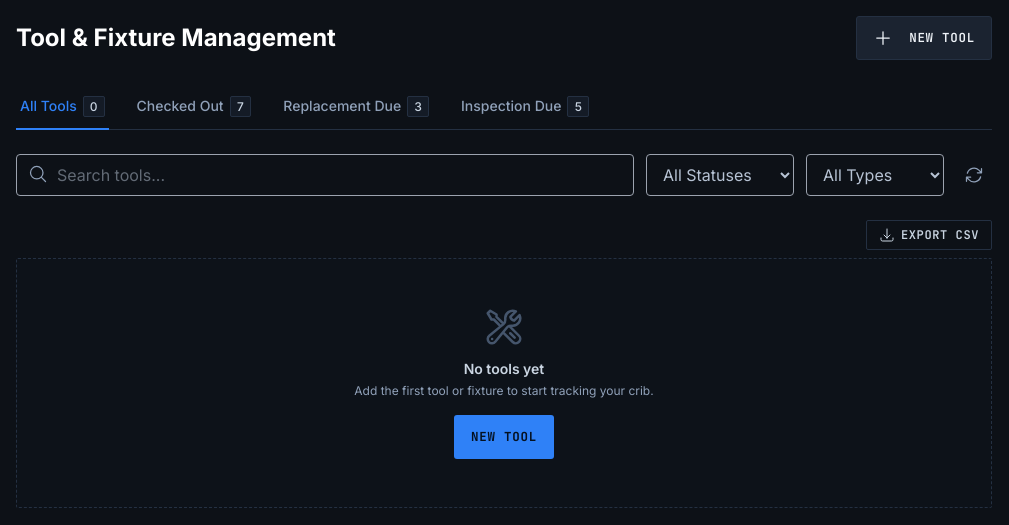
Test case: distinguishes a first tool from a search miss and an empty attention tab
The width and height of the screenshot is (1009, 525).
Expected: the text "No tools yet" is shown, [464,359,544,379]
Expected: the text "Add the first tool or fixture to start tracking your crib." is shown, [354,383,654,399]
Type "missing drill" into the field with placeholder "Search tools...". click: point(325, 175)
box: [16,154,634,196]
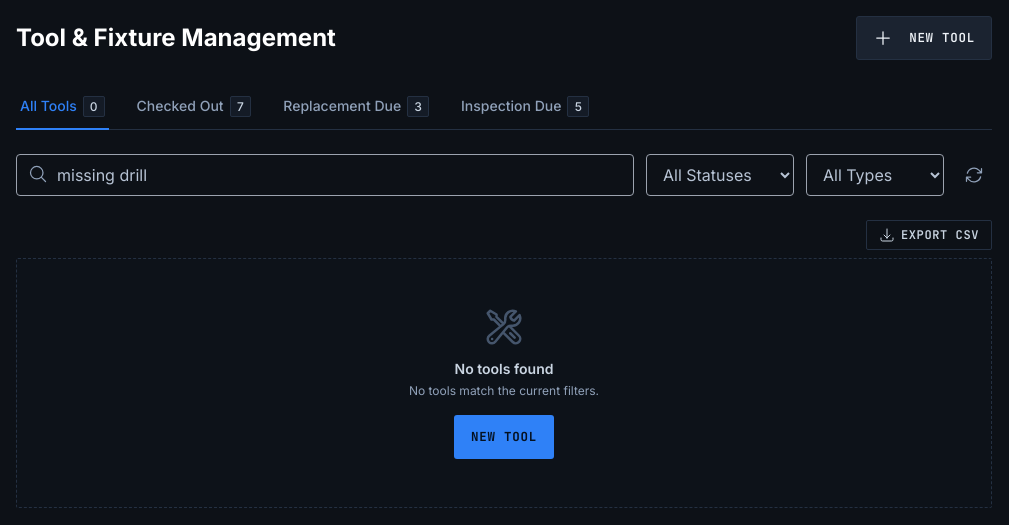
Now the text "No tools found" is shown, box [454,359,553,379]
Now the text "No tools match the current filters." is shown, box [409,383,599,399]
Clear the field with placeholder "Search tools...". click: point(325, 175)
box: [16,154,634,196]
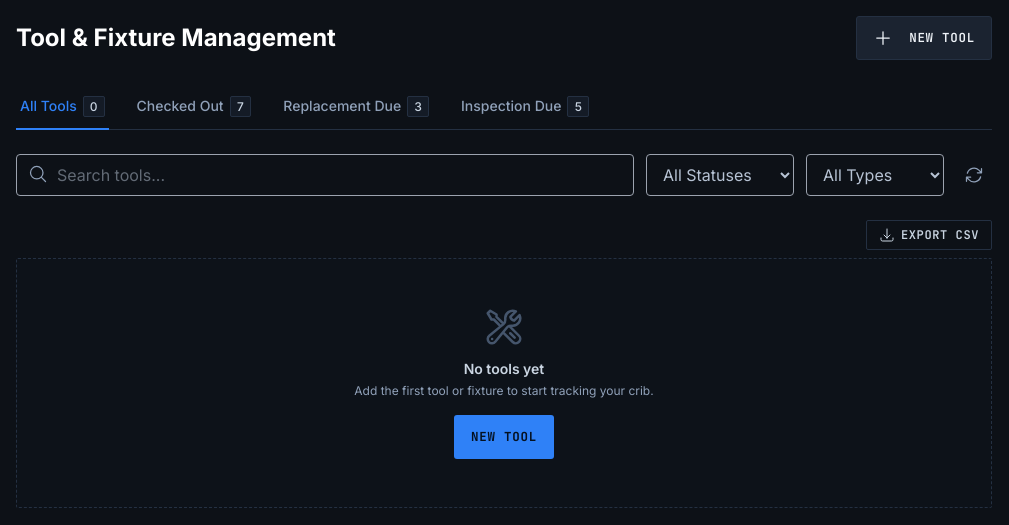
Click the button "Checked Out7". click: point(194, 107)
box: [132,84,255,130]
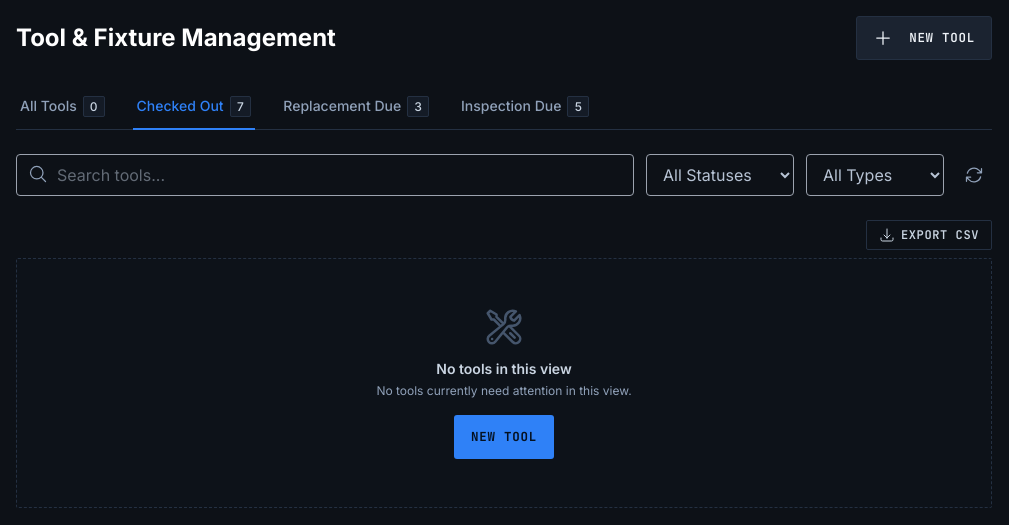
Now the text "No tools in this view" is shown, box [436,359,572,379]
